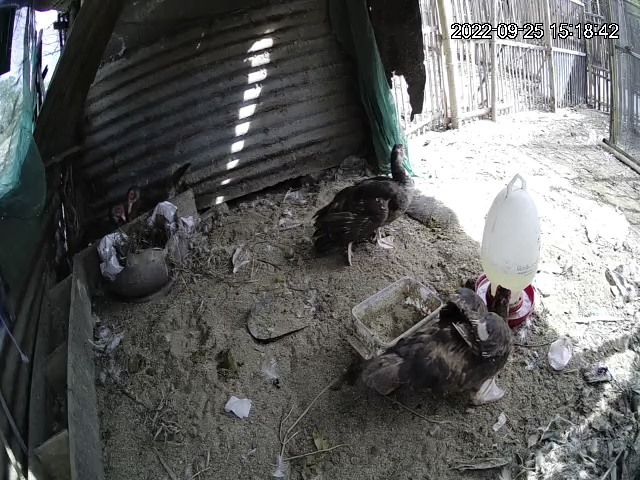Mengeram: (70, 160, 194, 265)
